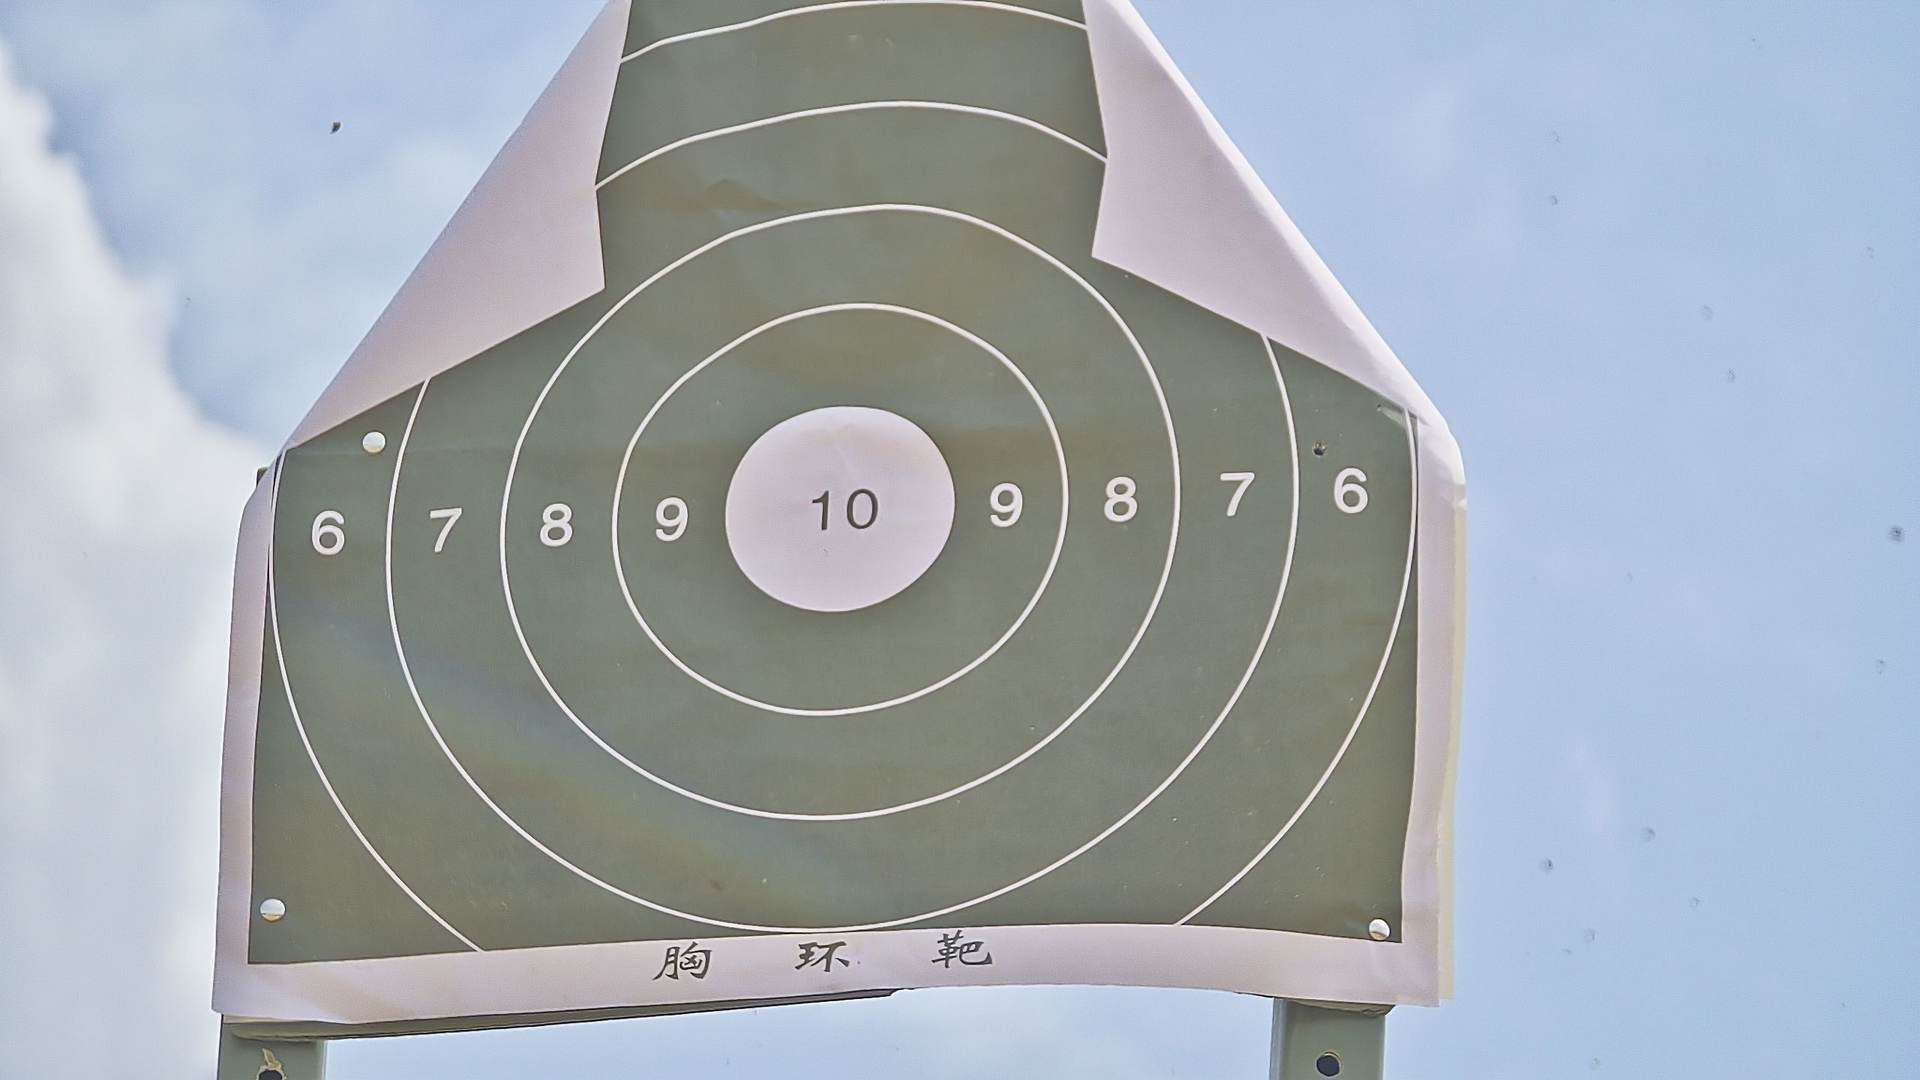hole: (1309, 444, 1327, 458)
kernel: (833, 505, 844, 517)
target: (244, 1, 1408, 947)
ten: (724, 402, 959, 620)
